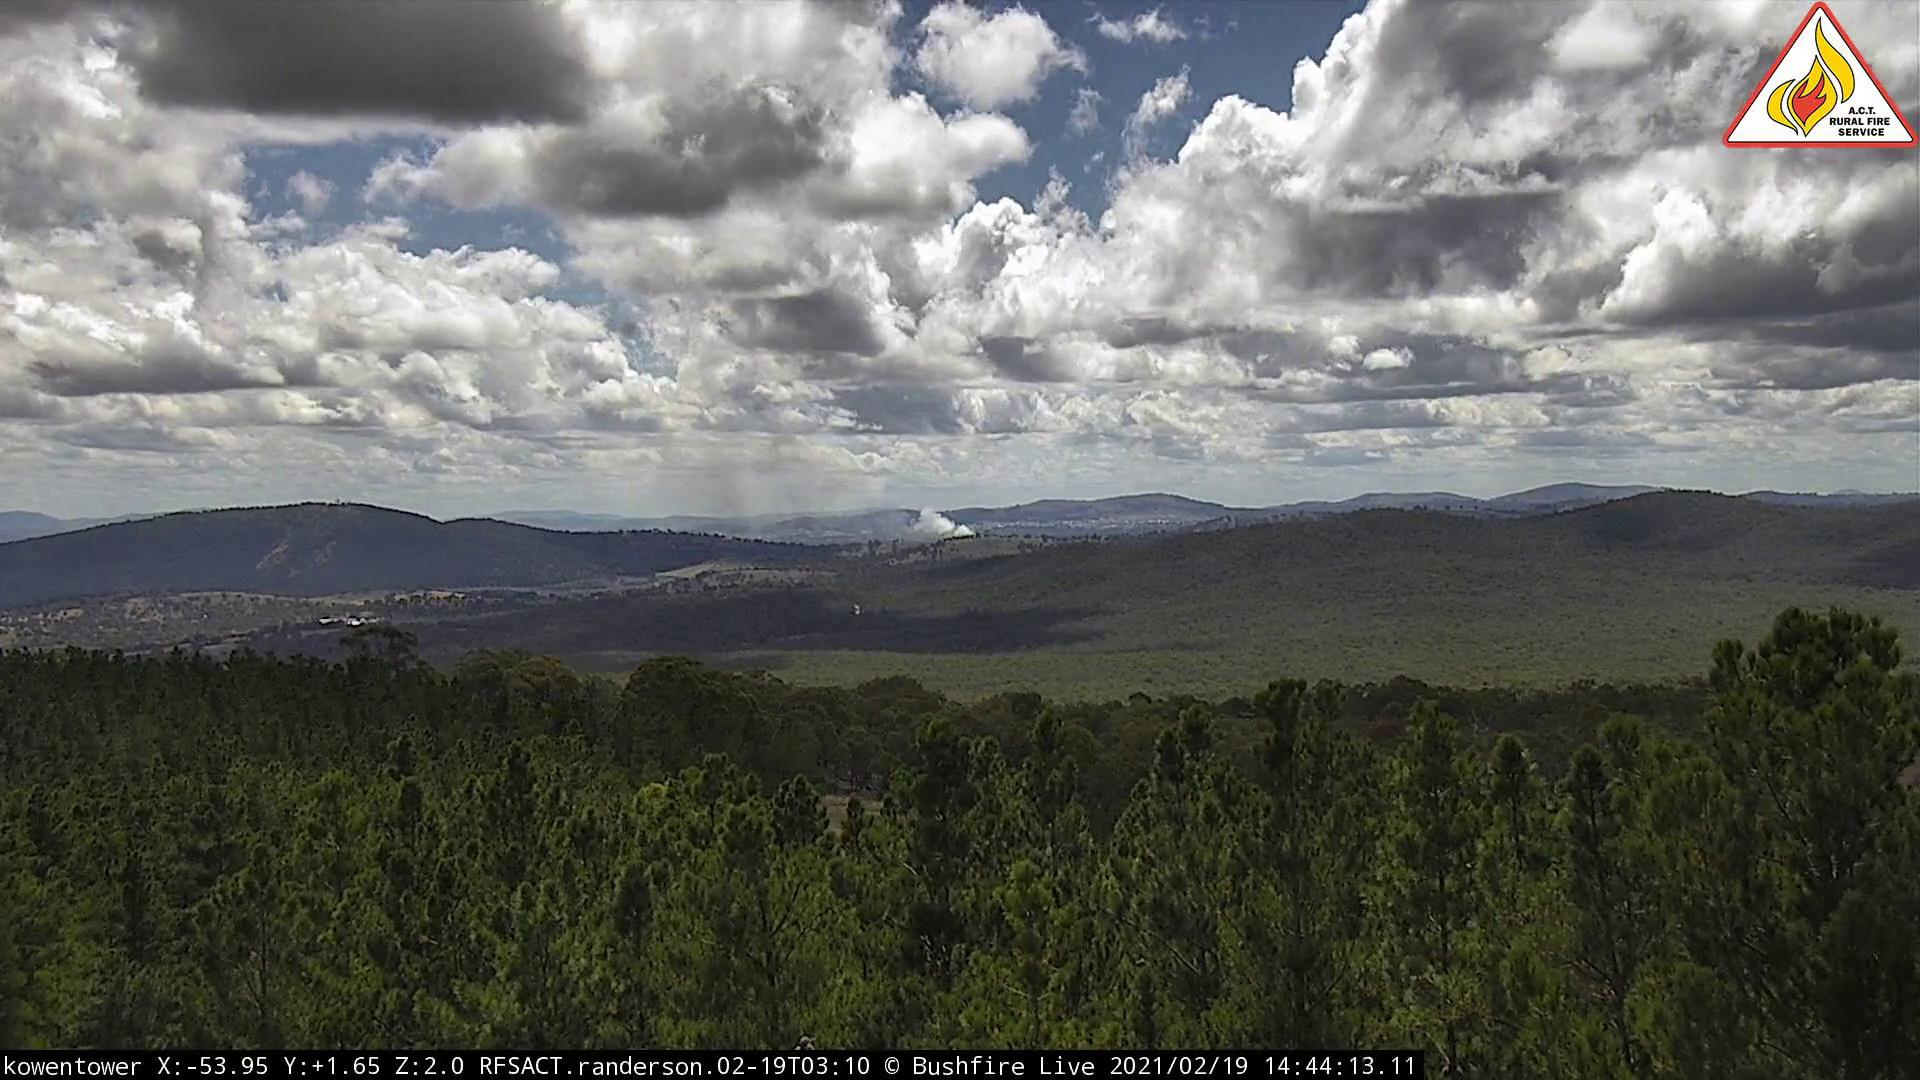Smoke: (636, 423, 980, 547)
